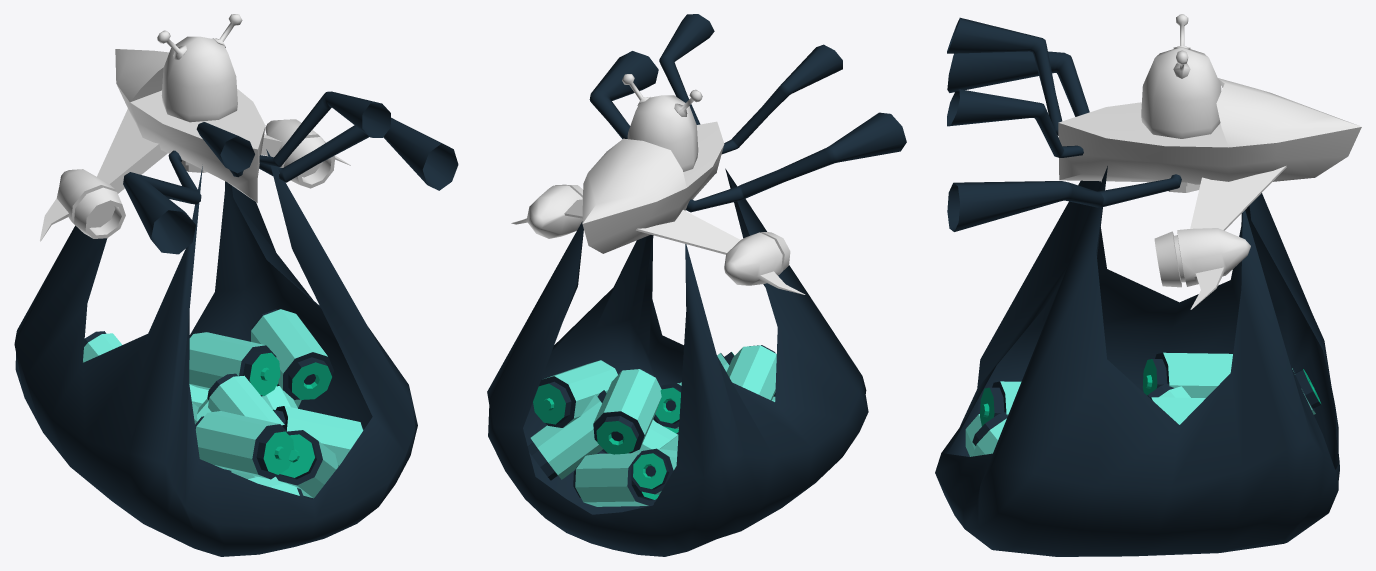
The model's file is Enemy_Scene_Scene_Collection.fbx.
3 renders of one model, left to right at view 1: azimuth 30°, elevation 25°; view 2: azimuth 150°, elevation 25°; view 3: azimuth 270°, elevation 25°, orthographic. The views are drawn at different scales.
Visible parts, largest first — view 1: BatteryBunch, Ship, Exhaust, Head; view 2: BatteryBunch, Ship, Exhaust, Head; view 3: BatteryBunch, Ship, Exhaust, Head.
Boxes of the visible parts, bbox=[...] form: BatteryBunch: bbox=[14, 149, 417, 556]; Ship: bbox=[40, 49, 350, 241]; Exhaust: bbox=[123, 91, 458, 254]; Head: bbox=[157, 14, 242, 122]; BatteryBunch: bbox=[487, 168, 868, 556]; Ship: bbox=[511, 121, 805, 294]; Exhaust: bbox=[589, 14, 906, 212]; Head: bbox=[622, 74, 702, 171]; BatteryBunch: bbox=[935, 166, 1339, 556]; Ship: bbox=[1058, 78, 1361, 309]; Exhaust: bbox=[947, 17, 1181, 231]; Head: bbox=[1141, 14, 1221, 138].
Bounding box in the file's own units: 859 × 1227 × 959.
